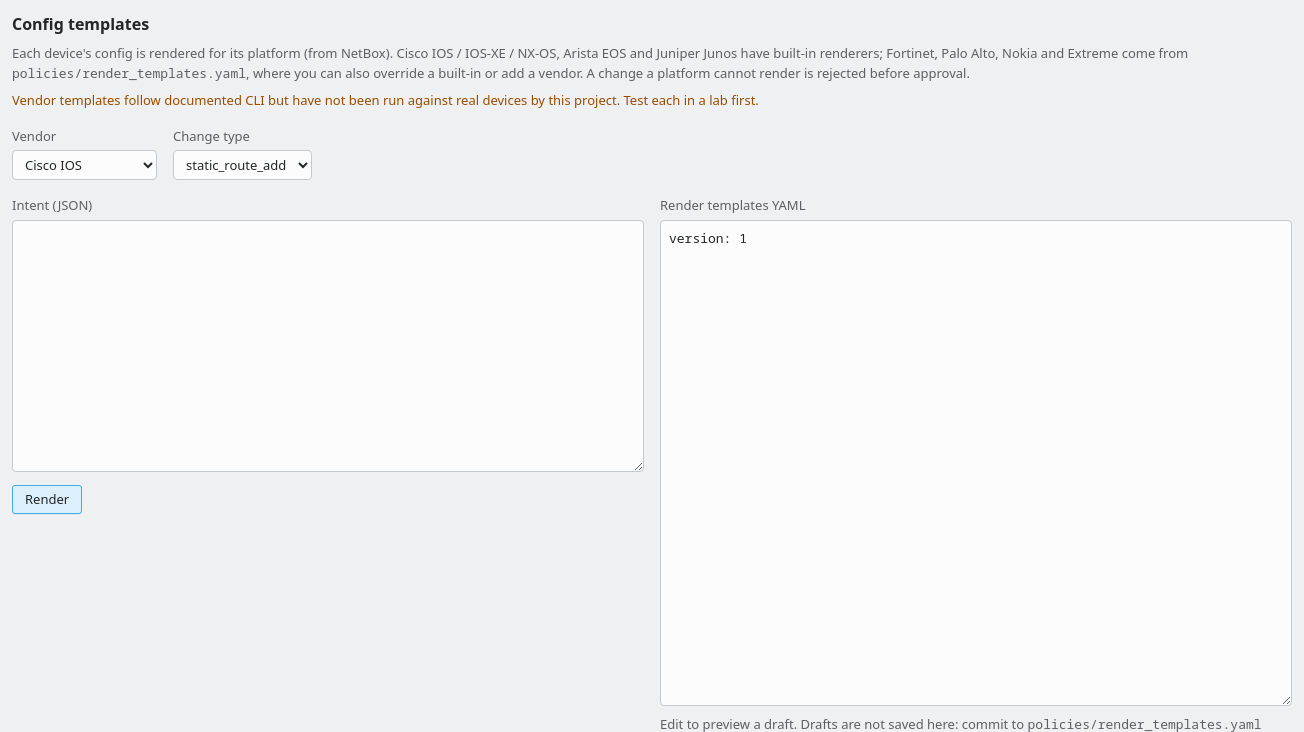
Scenario: RenderTemplates › shows why a vendor cannot render a change
Select "static_route_add" in the dropdown labelled "Change type" at (242,165), box [173,150,312,180]
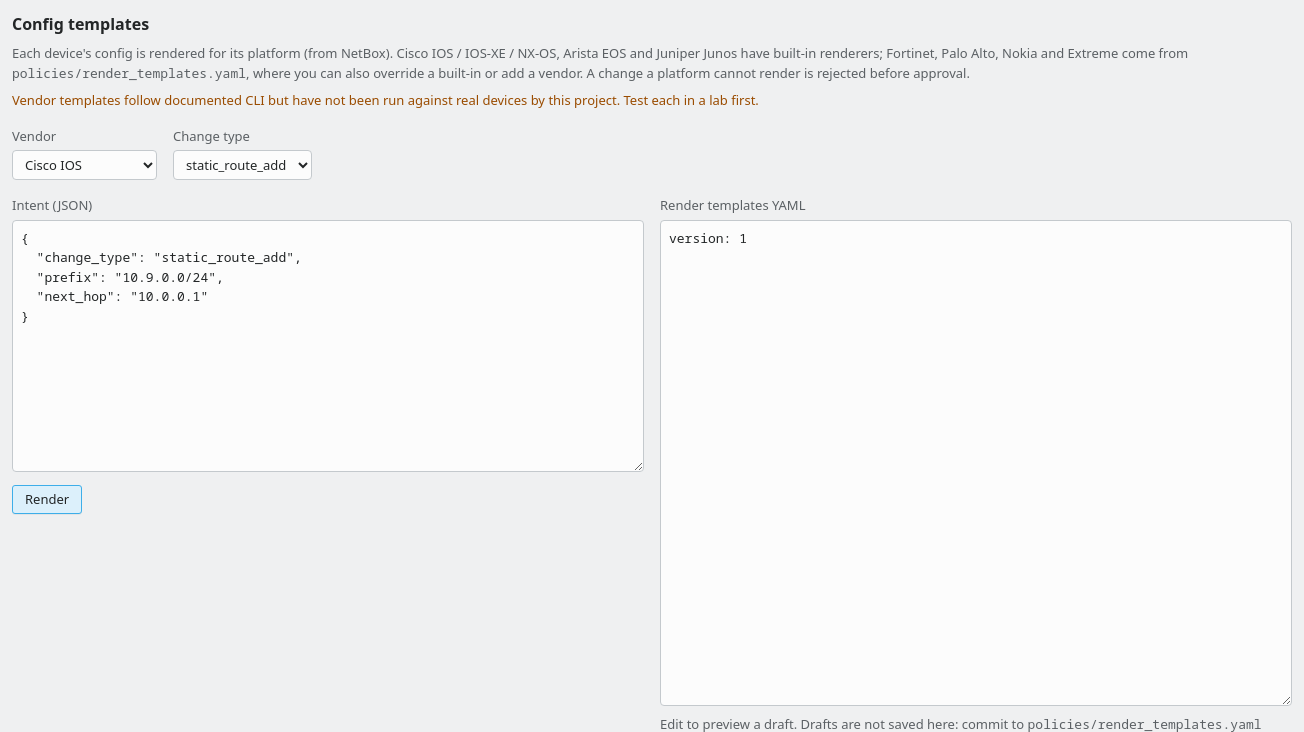
Click the button "Render" at (47,499), box [12,484,82,514]
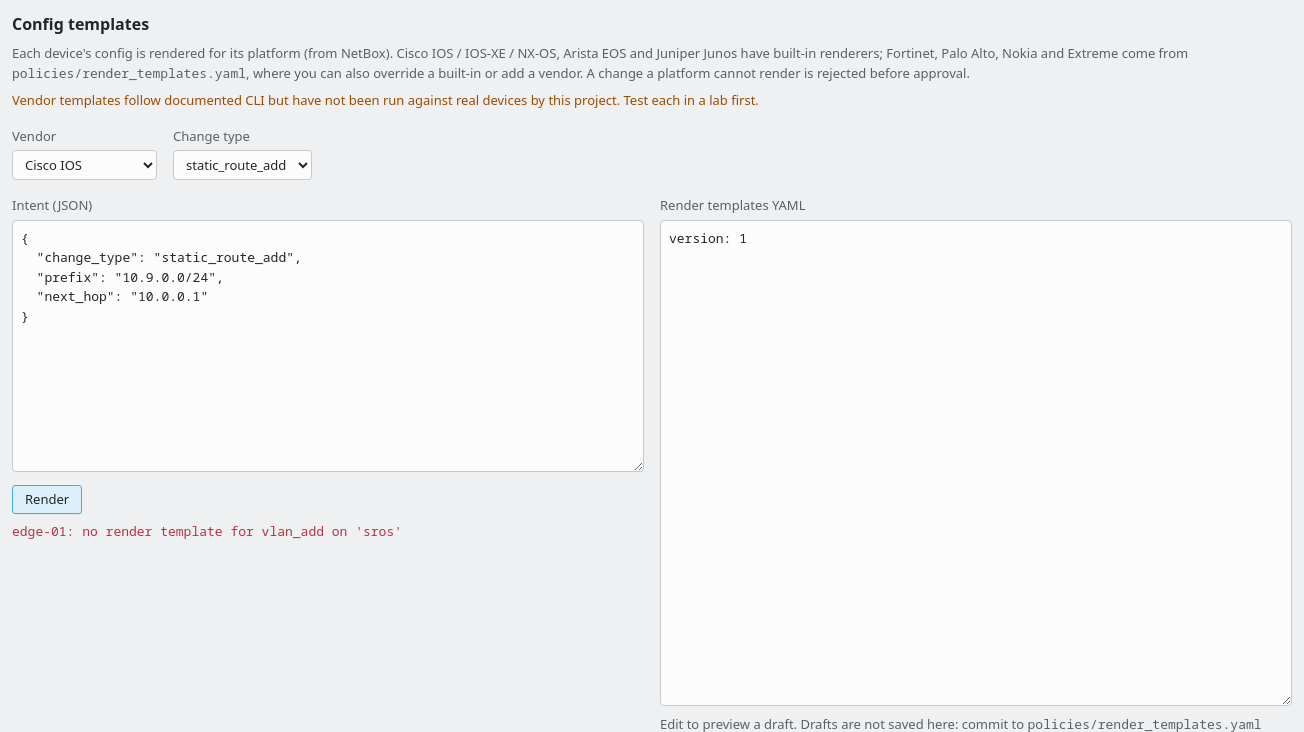
expect the list item "edge-01: no render template for vlan_add on 'sros'" is shown: met, box [12,522,402,540]
